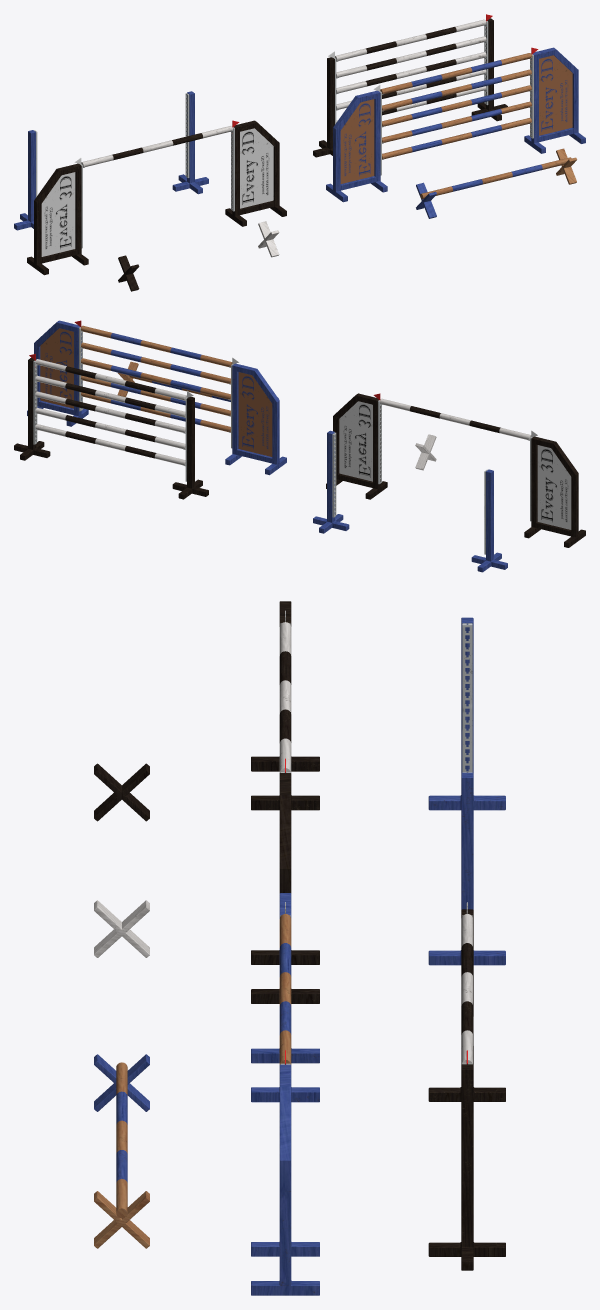
File: show_jumping____horse_jumping_obstacles.glb
The picture shows the model from 3 angles, top to bottom: view 1: azimuth 30°, elevation 25°; view 2: azimuth 150°, elevation 25°; view 3: azimuth 270°, elevation 25°; orthographic projection. The views are drawn at different scales.
Visible parts, largest first — view 1: BarrierEvery3D, Barrier2, HalfBarrier2Every3D, HalfBarrier1Every3D, Barrier1, HalfBarrier1, HalfBarrier2, Pole, Cavaletti2, Cavaletti1; view 2: BarrierEvery3D, Barrier2, HalfBarrier2Every3D, HalfBarrier1Every3D, HalfBarrier2, HalfBarrier1, Pole, Barrier1, Cavaletti1; view 3: BarrierEvery3D, Barrier2, Barrier1, HalfBarrier1Every3D, HalfBarrier2, HalfBarrier1, HalfBarrier2Every3D, Pole, Cavaletti1, Cavaletti2.
Boxes of the visible parts, <box> form: BarrierEvery3D: <box>326,47,585,202</box>; Barrier2: <box>313,14,507,157</box>; HalfBarrier2Every3D: <box>27,163,88,275</box>; HalfBarrier1Every3D: <box>225,120,286,226</box>; Barrier1: <box>416,148,576,218</box>; HalfBarrier1: <box>172,91,208,194</box>; HalfBarrier2: <box>14,130,37,230</box>; Pole: <box>81,126,232,166</box>; Cavaletti2: <box>118,255,139,291</box>; Cavaletti1: <box>258,221,279,257</box>; BarrierEvery3D: <box>27,320,286,475</box>; Barrier2: <box>14,354,208,499</box>; HalfBarrier2Every3D: <box>524,436,585,547</box>; HalfBarrier1Every3D: <box>326,393,387,499</box>; HalfBarrier2: <box>471,469,507,572</box>; HalfBarrier1: <box>313,430,349,533</box>; Pole: <box>380,398,531,439</box>; Barrier1: <box>117,361,278,401</box>; Cavaletti1: <box>415,434,436,470</box>; BarrierEvery3D: <box>251,893,319,1295</box>; Barrier2: <box>428,902,505,1270</box>; Barrier1: <box>94,1054,149,1248</box>; HalfBarrier1Every3D: <box>251,772,319,1003</box>; HalfBarrier2: <box>428,617,505,810</box>; HalfBarrier1: <box>428,772,505,965</box>; HalfBarrier2Every3D: <box>251,601,319,810</box>; Pole: <box>279,622,291,772</box>; Cavaletti1: <box>94,900,149,957</box>; Cavaletti2: <box>94,763,149,821</box>.
Bounding box in the file's own units: 10.88 × 1.92 × 3.58.
Materials: 2 (2 with a texture image).
